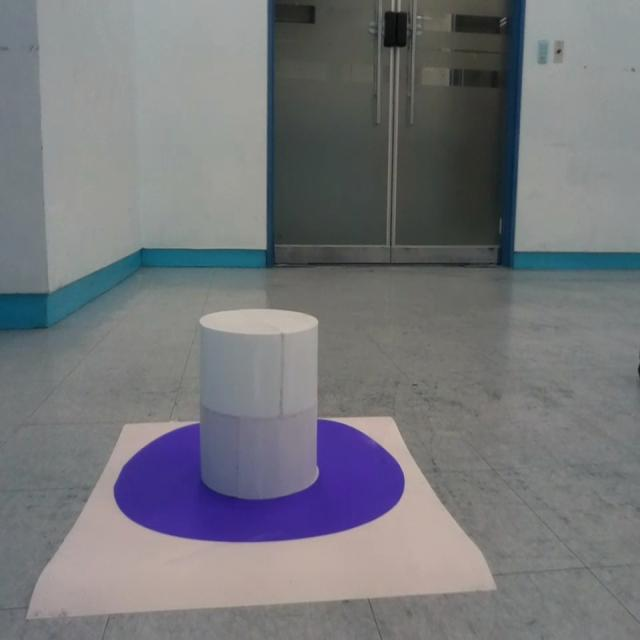cylinder: (198, 309, 321, 499)
